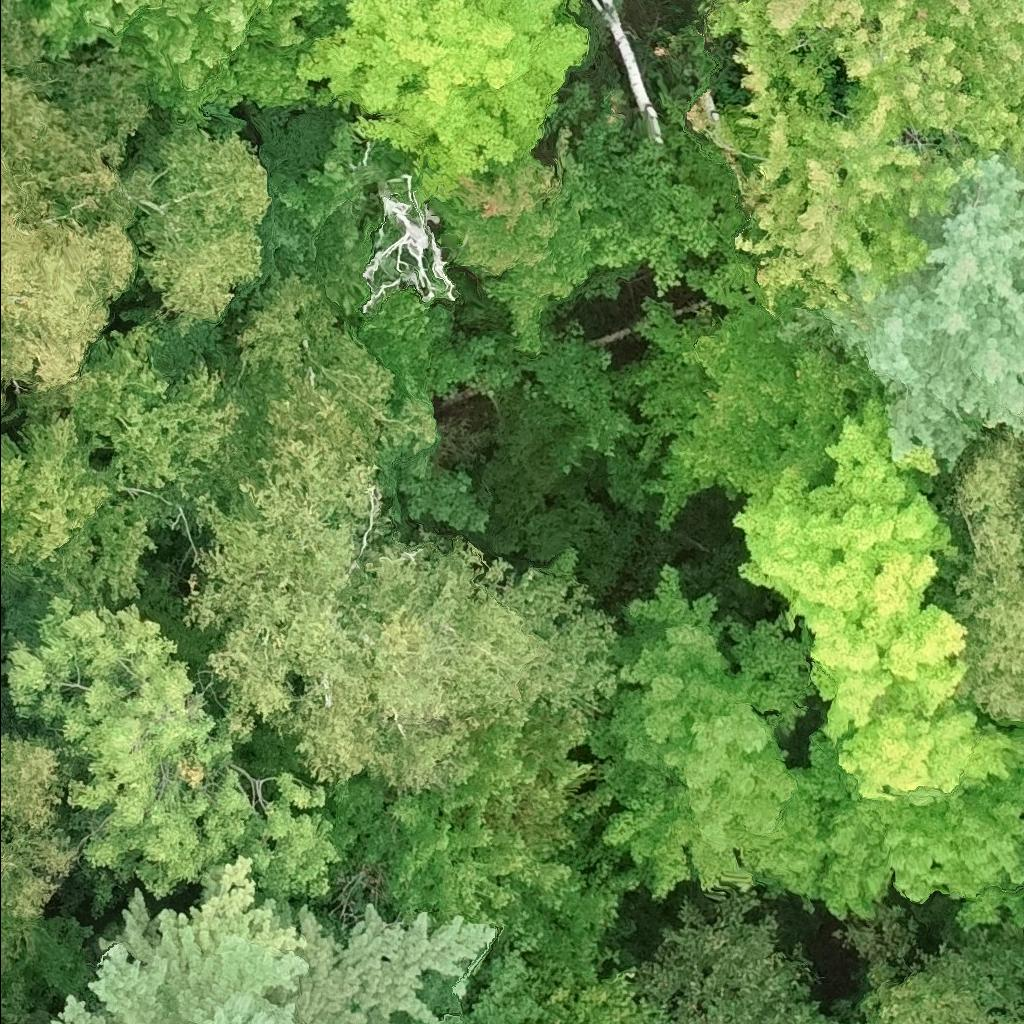crown: (177, 423, 621, 794), (731, 392, 1023, 810), (0, 592, 348, 920), (317, 694, 649, 962), (585, 562, 831, 900), (25, 853, 501, 1023), (778, 149, 1023, 477), (0, 320, 258, 616), (0, 0, 157, 407), (287, 0, 595, 206), (628, 289, 886, 534), (733, 80, 983, 313), (701, 0, 1023, 168), (791, 726, 1023, 934), (16, 0, 353, 132), (232, 266, 442, 460), (425, 152, 598, 349), (128, 127, 272, 333), (635, 884, 842, 1023), (927, 428, 1023, 725), (833, 931, 1023, 1023), (0, 727, 83, 920), (526, 930, 666, 1023), (424, 944, 549, 1023), (402, 1018, 420, 1023), (0, 1013, 4, 1023), (1023, 168, 1023, 168)
